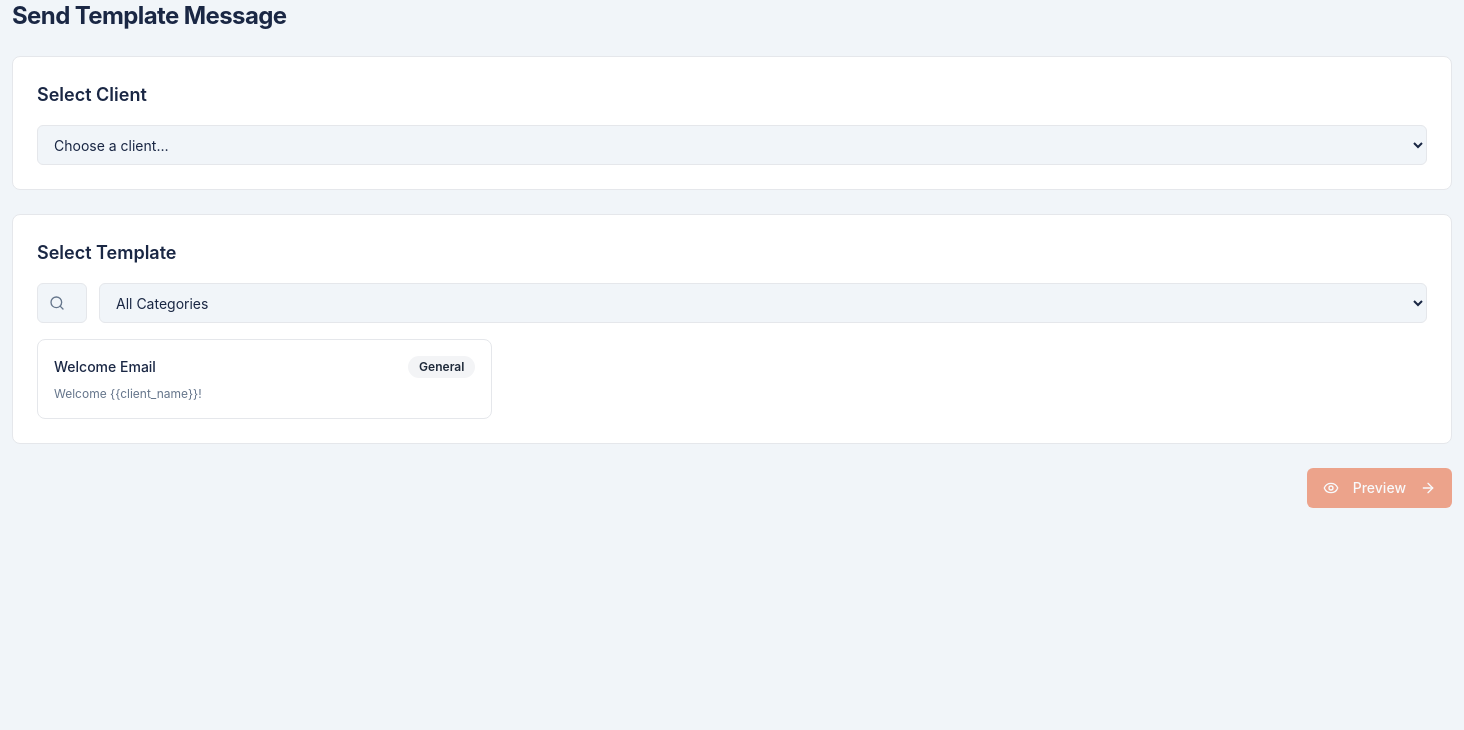
Test: SendTemplateView › shows delivery channels when template and client are selected
Select a template
Click the text "Welcome Email" at (105, 367), box [54,357,156,377]
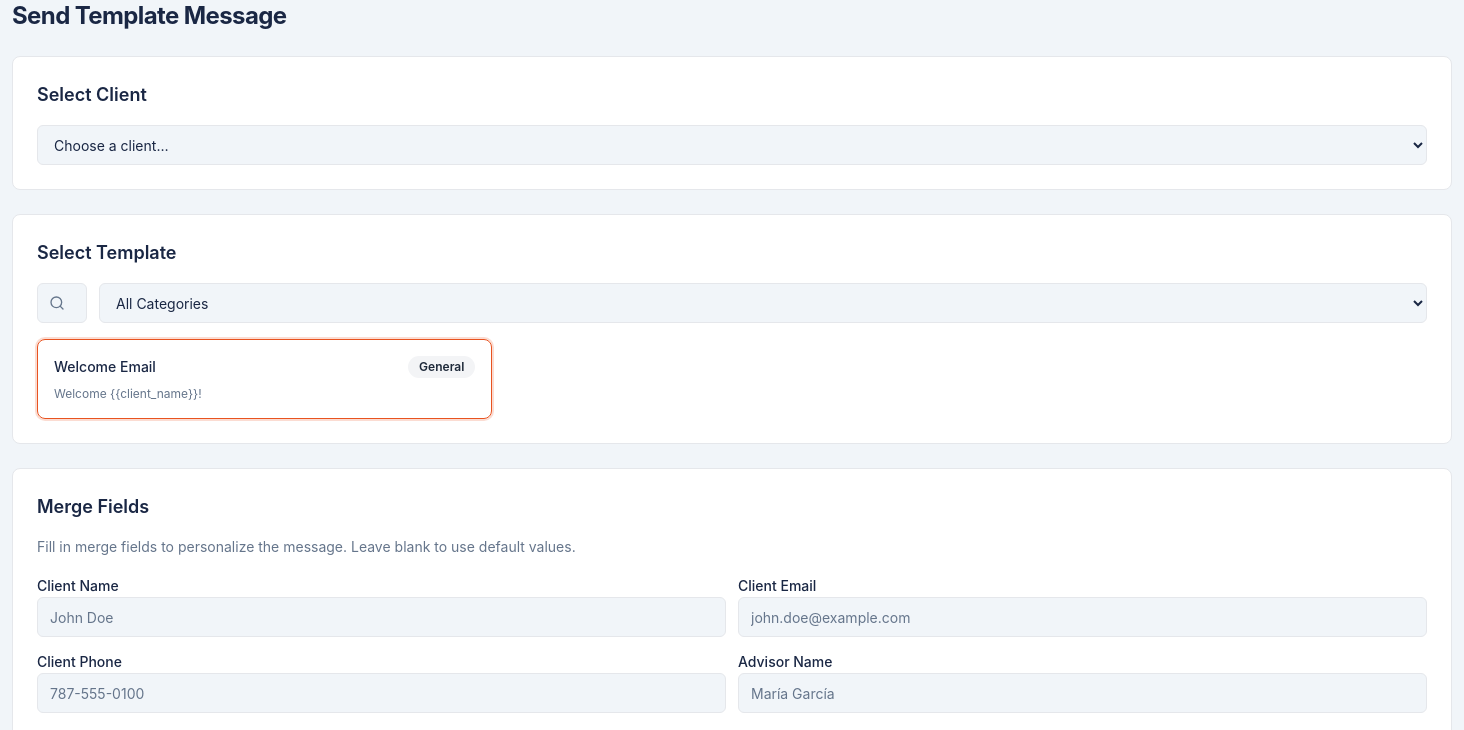
Select "John Doe (john@example.com)" in the dropdown below "Select Client" at (732, 145), box [37,125,1427,165]
(page scrolled)
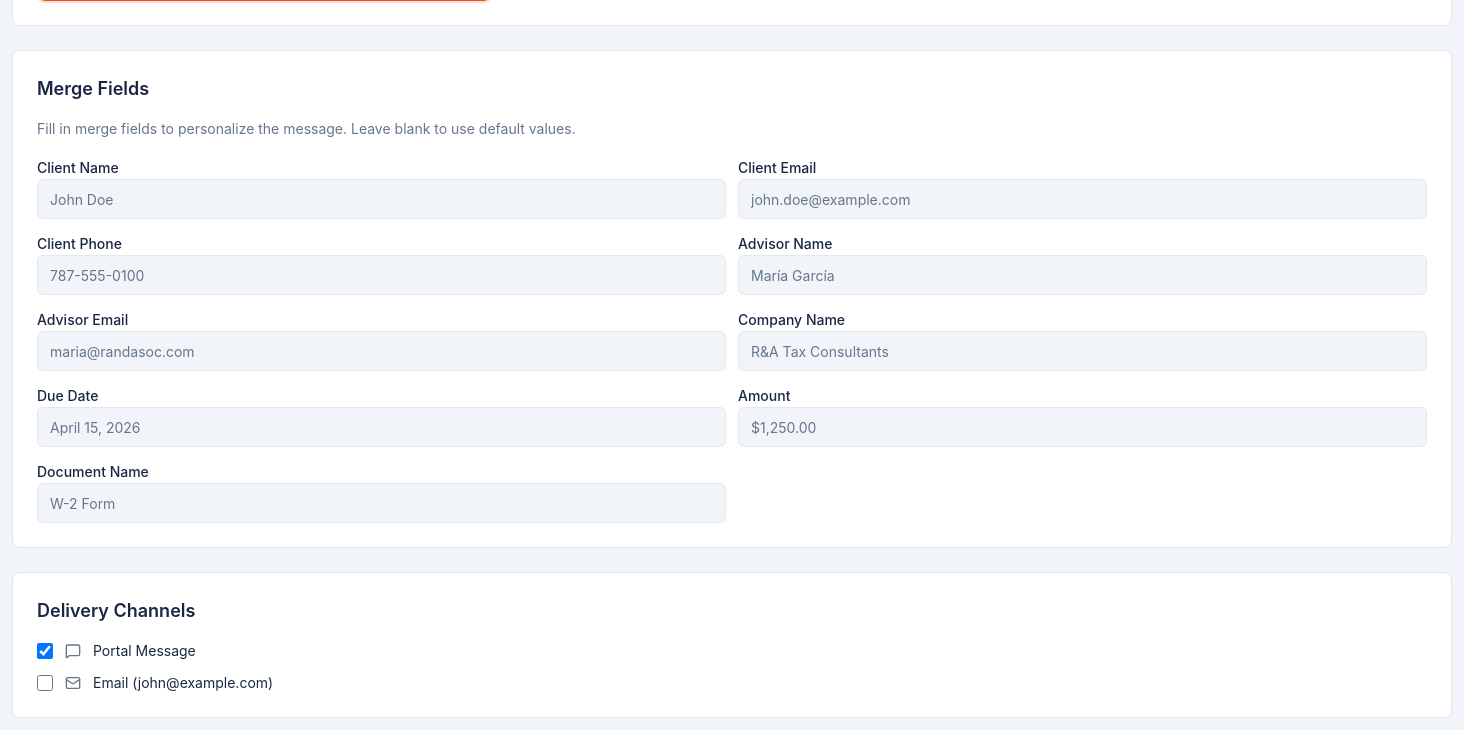
expect the heading "Delivery Channels" is shown: met, box [37,600,195,621]
expect the text "Portal Message" is shown: met, box [93,641,196,661]
